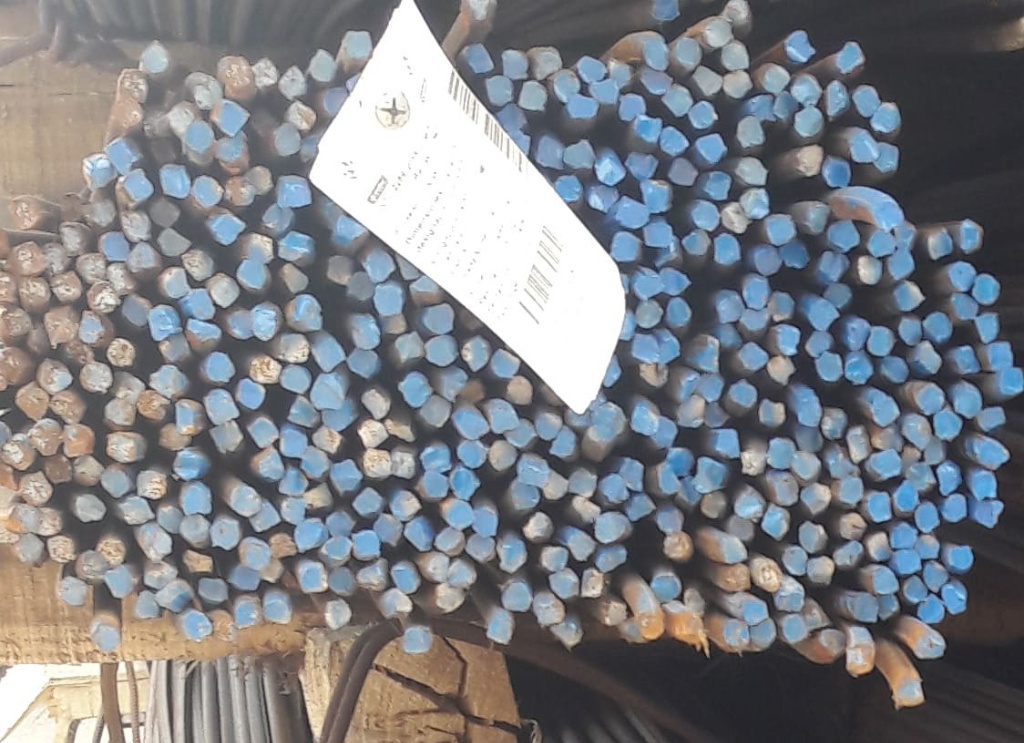dipstick: (14, 382, 49, 422), (36, 358, 74, 394), (45, 305, 80, 344), (397, 371, 433, 407), (287, 295, 324, 330), (29, 418, 64, 455), (1, 433, 36, 470), (148, 364, 187, 397), (51, 389, 87, 424), (104, 139, 141, 173), (274, 175, 312, 208), (215, 102, 250, 136), (527, 46, 562, 79), (82, 154, 118, 186), (735, 487, 767, 523), (174, 448, 211, 479), (186, 318, 220, 351), (294, 518, 327, 552), (639, 180, 673, 213), (203, 389, 238, 421), (160, 163, 191, 199), (10, 242, 46, 273), (239, 537, 272, 570), (118, 69, 152, 101), (62, 424, 96, 456), (179, 481, 211, 515), (330, 459, 362, 493), (362, 250, 396, 282), (149, 304, 180, 339), (346, 348, 381, 379), (425, 335, 460, 366), (462, 335, 492, 371), (9, 196, 41, 229), (19, 473, 52, 505), (157, 580, 191, 611), (406, 516, 437, 550), (790, 73, 821, 107), (250, 497, 280, 532), (761, 504, 791, 539), (903, 414, 933, 449), (452, 412, 489, 440), (314, 339, 346, 371), (765, 437, 797, 469), (121, 170, 154, 201), (104, 397, 135, 430), (70, 455, 103, 486), (180, 516, 213, 547), (251, 307, 282, 340), (390, 561, 421, 594), (505, 416, 538, 447), (319, 536, 353, 566), (379, 590, 413, 620), (536, 136, 566, 170), (933, 407, 963, 441), (220, 55, 252, 86), (237, 259, 269, 290), (18, 277, 50, 308), (12, 533, 43, 565), (373, 514, 404, 546), (352, 487, 384, 518), (617, 195, 648, 227), (819, 250, 851, 281), (211, 275, 241, 308), (79, 362, 112, 392), (287, 396, 320, 426), (421, 394, 451, 427), (625, 151, 658, 181), (695, 133, 728, 163), (903, 462, 936, 492), (144, 562, 178, 591), (247, 354, 281, 383), (248, 417, 279, 448), (721, 202, 752, 233), (263, 204, 295, 234), (131, 244, 163, 274), (52, 271, 84, 301), (389, 491, 421, 521), (497, 541, 527, 573), (548, 568, 580, 598), (563, 139, 595, 169), (462, 43, 494, 73), (785, 30, 815, 62), (6, 503, 39, 532), (702, 18, 735, 47), (837, 40, 865, 74), (213, 213, 243, 244), (89, 281, 120, 311), (59, 222, 89, 253), (113, 370, 144, 400), (139, 389, 170, 419), (76, 552, 107, 582), (300, 448, 330, 479), (279, 333, 310, 363), (327, 256, 358, 286), (374, 285, 405, 315), (424, 303, 454, 334), (523, 512, 554, 542), (596, 542, 627, 572), (664, 447, 695, 477), (587, 183, 618, 213), (800, 484, 831, 514), (808, 300, 839, 330), (829, 220, 859, 251), (923, 312, 953, 343), (176, 400, 205, 432), (737, 342, 769, 371), (735, 157, 767, 186), (73, 493, 106, 521), (209, 421, 242, 449), (976, 441, 1009, 469), (658, 268, 692, 295), (286, 232, 316, 262), (41, 243, 71, 273), (281, 364, 311, 394), (395, 332, 425, 362), (519, 455, 549, 485), (662, 85, 692, 115), (736, 115, 766, 145), (852, 85, 882, 115), (193, 176, 222, 207), (124, 295, 153, 326), (311, 381, 342, 410), (362, 389, 391, 420), (357, 420, 388, 449), (501, 583, 532, 612), (740, 188, 769, 219), (676, 396, 705, 427), (915, 383, 944, 414), (434, 528, 466, 556), (489, 439, 517, 471), (713, 234, 741, 266), (110, 98, 143, 125), (553, 69, 580, 102), (870, 450, 903, 477), (205, 352, 234, 382), (211, 519, 240, 549), (183, 612, 213, 641), (263, 593, 292, 623), (237, 379, 266, 409), (363, 449, 392, 479), (467, 533, 497, 562), (451, 469, 480, 499), (511, 479, 540, 509), (568, 468, 597, 498), (626, 492, 655, 522), (663, 532, 693, 561), (656, 504, 685, 534), (611, 231, 640, 261), (519, 81, 548, 111), (660, 127, 689, 157), (870, 101, 899, 131), (893, 281, 922, 311), (971, 275, 1000, 305), (224, 178, 255, 206), (78, 254, 109, 282), (234, 597, 262, 628), (691, 201, 719, 232), (687, 101, 718, 129), (799, 521, 827, 552), (949, 261, 977, 292), (551, 618, 583, 645), (594, 515, 626, 542), (749, 617, 776, 649), (822, 408, 849, 440), (941, 583, 968, 615), (196, 578, 229, 604), (640, 69, 673, 95), (916, 341, 942, 374), (652, 415, 677, 449), (185, 122, 214, 151), (150, 199, 179, 228), (279, 467, 308, 496), (328, 567, 357, 596), (457, 439, 486, 468), (489, 403, 518, 432), (766, 356, 795, 385), (485, 76, 514, 105), (815, 352, 844, 381), (140, 45, 170, 73), (100, 232, 130, 260), (280, 262, 310, 290), (87, 197, 117, 225), (548, 426, 576, 456), (768, 214, 796, 244), (668, 158, 698, 186), (693, 66, 723, 94), (280, 66, 307, 97), (80, 310, 107, 341), (101, 469, 132, 496), (922, 562, 949, 593), (620, 459, 645, 492), (189, 289, 217, 318), (107, 338, 135, 367), (232, 487, 260, 516), (106, 568, 134, 597), (258, 451, 286, 480), (351, 321, 380, 349), (491, 349, 520, 377), (652, 576, 681, 604), (723, 71, 752, 99), (794, 107, 822, 136), (823, 158, 851, 187), (845, 646, 874, 674), (887, 251, 915, 280), (310, 50, 337, 80), (274, 124, 301, 154), (300, 563, 327, 593), (353, 530, 380, 560), (701, 492, 731, 519), (790, 451, 820, 478), (976, 498, 1003, 528), (1, 309, 32, 335), (229, 564, 260, 590), (657, 462, 683, 493), (501, 49, 527, 80), (867, 492, 893, 523), (847, 352, 873, 383), (868, 325, 894, 356), (158, 228, 190, 253), (160, 424, 192, 449), (595, 160, 627, 185), (892, 680, 924, 705), (336, 213, 369, 237), (163, 268, 191, 296), (138, 471, 166, 499), (312, 427, 340, 455), (535, 413, 563, 441), (602, 474, 630, 502), (758, 399, 786, 427), (807, 556, 835, 584), (445, 501, 474, 528), (632, 405, 659, 434), (632, 334, 661, 361), (634, 299, 661, 328), (742, 279, 769, 308), (643, 42, 670, 71), (761, 67, 790, 94), (766, 291, 793, 320), (805, 329, 834, 356), (941, 493, 968, 522), (980, 408, 1007, 437), (123, 497, 153, 523), (936, 463, 962, 493), (402, 627, 433, 652), (898, 314, 923, 345), (566, 93, 598, 117), (289, 103, 316, 131), (280, 430, 308, 457), (723, 619, 750, 647), (782, 547, 809, 575), (755, 247, 782, 275), (872, 143, 899, 171), (828, 80, 849, 116), (970, 471, 998, 498), (986, 342, 1013, 370), (36, 506, 62, 535), (96, 539, 125, 565), (325, 600, 351, 629), (349, 271, 375, 300), (854, 593, 880, 622), (857, 255, 883, 284), (47, 455, 72, 485), (420, 447, 450, 472), (850, 137, 880, 162), (916, 632, 946, 657), (915, 503, 940, 533), (182, 550, 213, 574), (544, 469, 568, 500), (49, 534, 76, 561), (449, 562, 476, 589), (730, 379, 757, 406), (705, 172, 732, 199), (872, 398, 899, 425), (868, 229, 895, 256), (472, 508, 498, 536), (578, 56, 606, 82), (819, 629, 845, 657), (870, 569, 899, 594), (868, 532, 893, 561), (508, 375, 532, 405), (680, 476, 703, 507), (959, 220, 981, 252), (327, 511, 354, 537), (487, 618, 514, 644), (391, 452, 417, 479), (638, 613, 665, 639), (555, 175, 582, 201), (618, 94, 645, 120), (635, 115, 661, 142), (675, 38, 702, 64), (840, 513, 866, 540), (824, 284, 851, 310), (890, 523, 917, 549), (345, 31, 373, 56), (229, 311, 254, 339), (540, 546, 568, 571), (568, 536, 596, 561), (783, 615, 808, 643), (666, 297, 691, 325), (682, 230, 710, 255), (715, 296, 743, 321), (699, 373, 724, 401), (955, 391, 980, 419), (882, 355, 907, 383), (927, 230, 952, 258), (874, 202, 902, 227), (324, 86, 348, 115), (269, 533, 298, 557), (582, 567, 606, 596), (586, 425, 615, 449), (758, 564, 782, 593), (774, 326, 798, 355), (977, 313, 999, 344), (918, 596, 944, 622), (157, 505, 182, 532), (91, 625, 118, 650), (135, 590, 160, 617), (422, 472, 449, 497), (723, 45, 750, 70), (715, 429, 739, 457), (893, 549, 921, 573), (956, 346, 980, 374), (949, 293, 977, 317), (954, 344, 978, 372), (952, 342, 976, 370), (145, 532, 171, 557), (280, 499, 305, 525), (722, 538, 747, 564), (62, 577, 86, 604), (645, 224, 672, 248), (902, 575, 926, 602), (537, 602, 565, 625), (590, 80, 618, 103), (1001, 366, 1022, 396), (247, 167, 273, 191), (742, 601, 769, 624), (949, 546, 974, 570), (253, 58, 276, 84), (777, 589, 803, 612), (636, 275, 663, 297), (799, 400, 821, 426), (652, 1, 682, 20), (605, 601, 627, 626), (914, 535, 939, 557), (840, 479, 864, 501)
